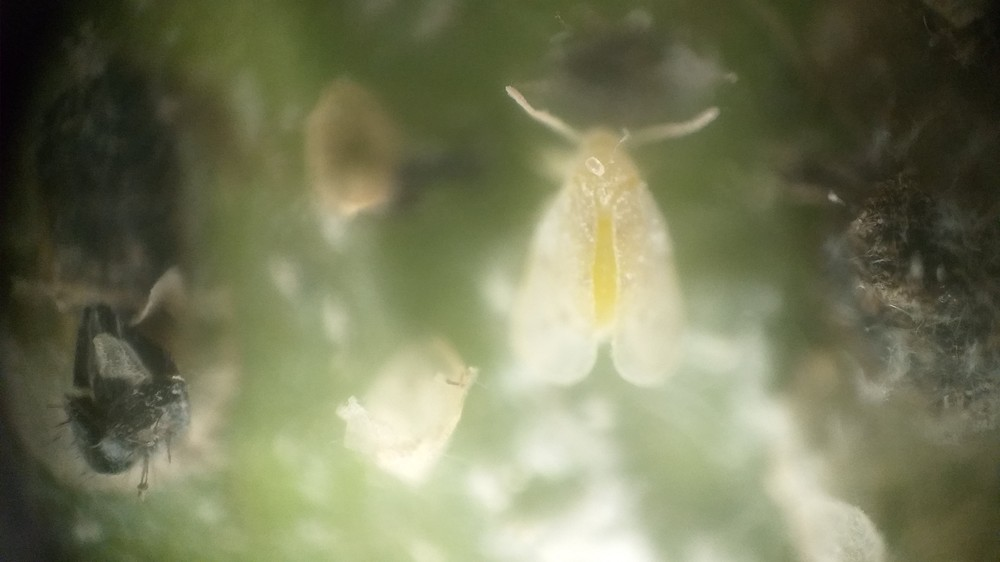Mosca Blanca: (460, 78, 740, 417)
